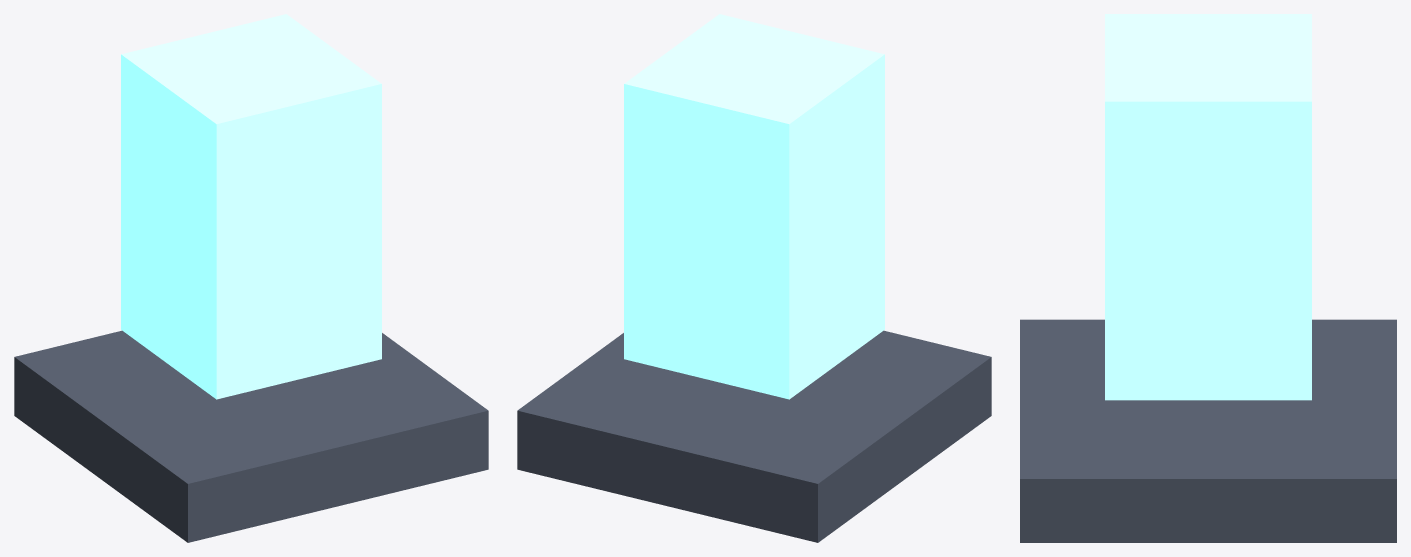
The model's file is monumento-provisional.glb.
3 views of the same model, side by side, from view 1: azimuth 30°, elevation 25°; view 2: azimuth 150°, elevation 25°; view 3: azimuth 270°, elevation 25° (orthographic). The views are drawn at different scales.
Parts seen in each view (by area): view 1: emblema; view 2: emblema; view 3: emblema.
Part boxes in pixels (box(x1,y1,x2,y2)): emblema: box(14, 14, 488, 542); emblema: box(517, 14, 991, 542); emblema: box(1020, 14, 1396, 542).
Bounding box in the file's own units: 0.8 × 0.95 × 0.8.
